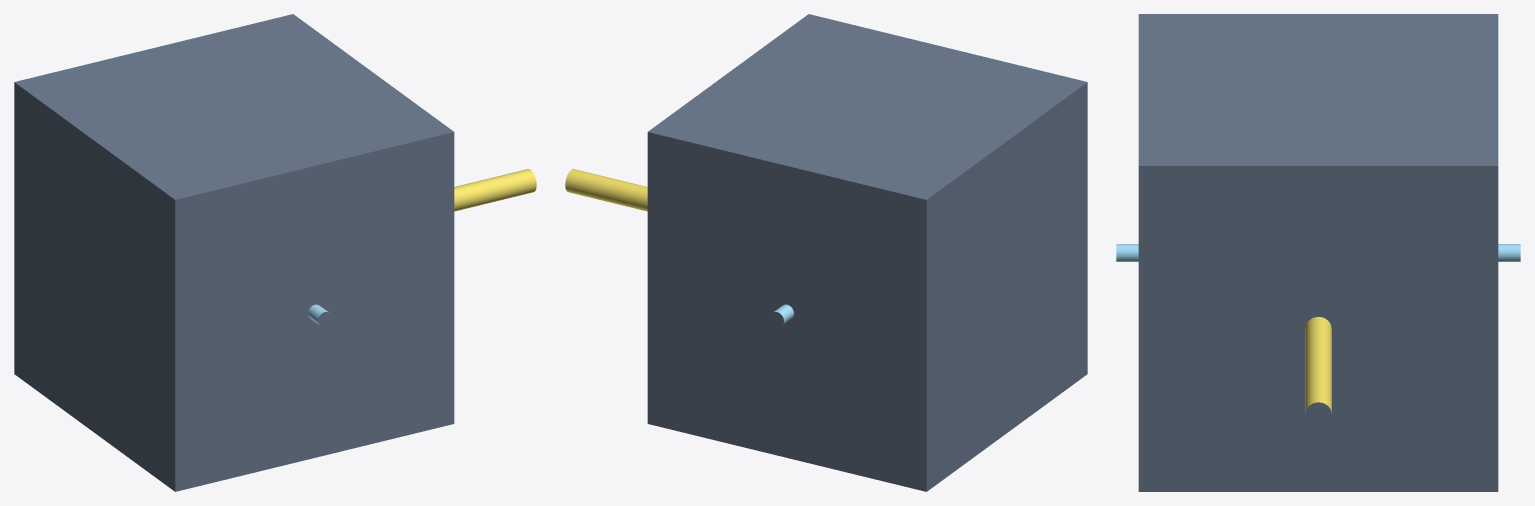
Rendered from cramers_rule_matrix_inversion_system.glb.
3 views of the same model, side by side, from view 1: azimuth 30°, elevation 25°; view 2: azimuth 150°, elevation 25°; view 3: azimuth 270°, elevation 25° (orthographic). The views are drawn at different scales.
Parts seen in each view (by area): view 1: MatrixDeterminantGridCube3x3, RightHandConstantsVectorB; view 2: MatrixDeterminantGridCube3x3, RightHandConstantsVectorB; view 3: MatrixDeterminantGridCube3x3, RightHandConstantsVectorB, CoefficientMatrixSubSpaceVectors.
Part boxes in pixels (x1,y1,x2,y2): MatrixDeterminantGridCube3x3: [14, 14, 454, 491]; RightHandConstantsVectorB: [454, 169, 536, 211]; MatrixDeterminantGridCube3x3: [647, 14, 1087, 491]; RightHandConstantsVectorB: [565, 169, 647, 211]; MatrixDeterminantGridCube3x3: [1138, 14, 1498, 491]; RightHandConstantsVectorB: [1305, 317, 1331, 413]; CoefficientMatrixSubSpaceVectors: [1116, 244, 1520, 261].
Size of the model in its own units: 1.25 by 0.8 by 0.9.
